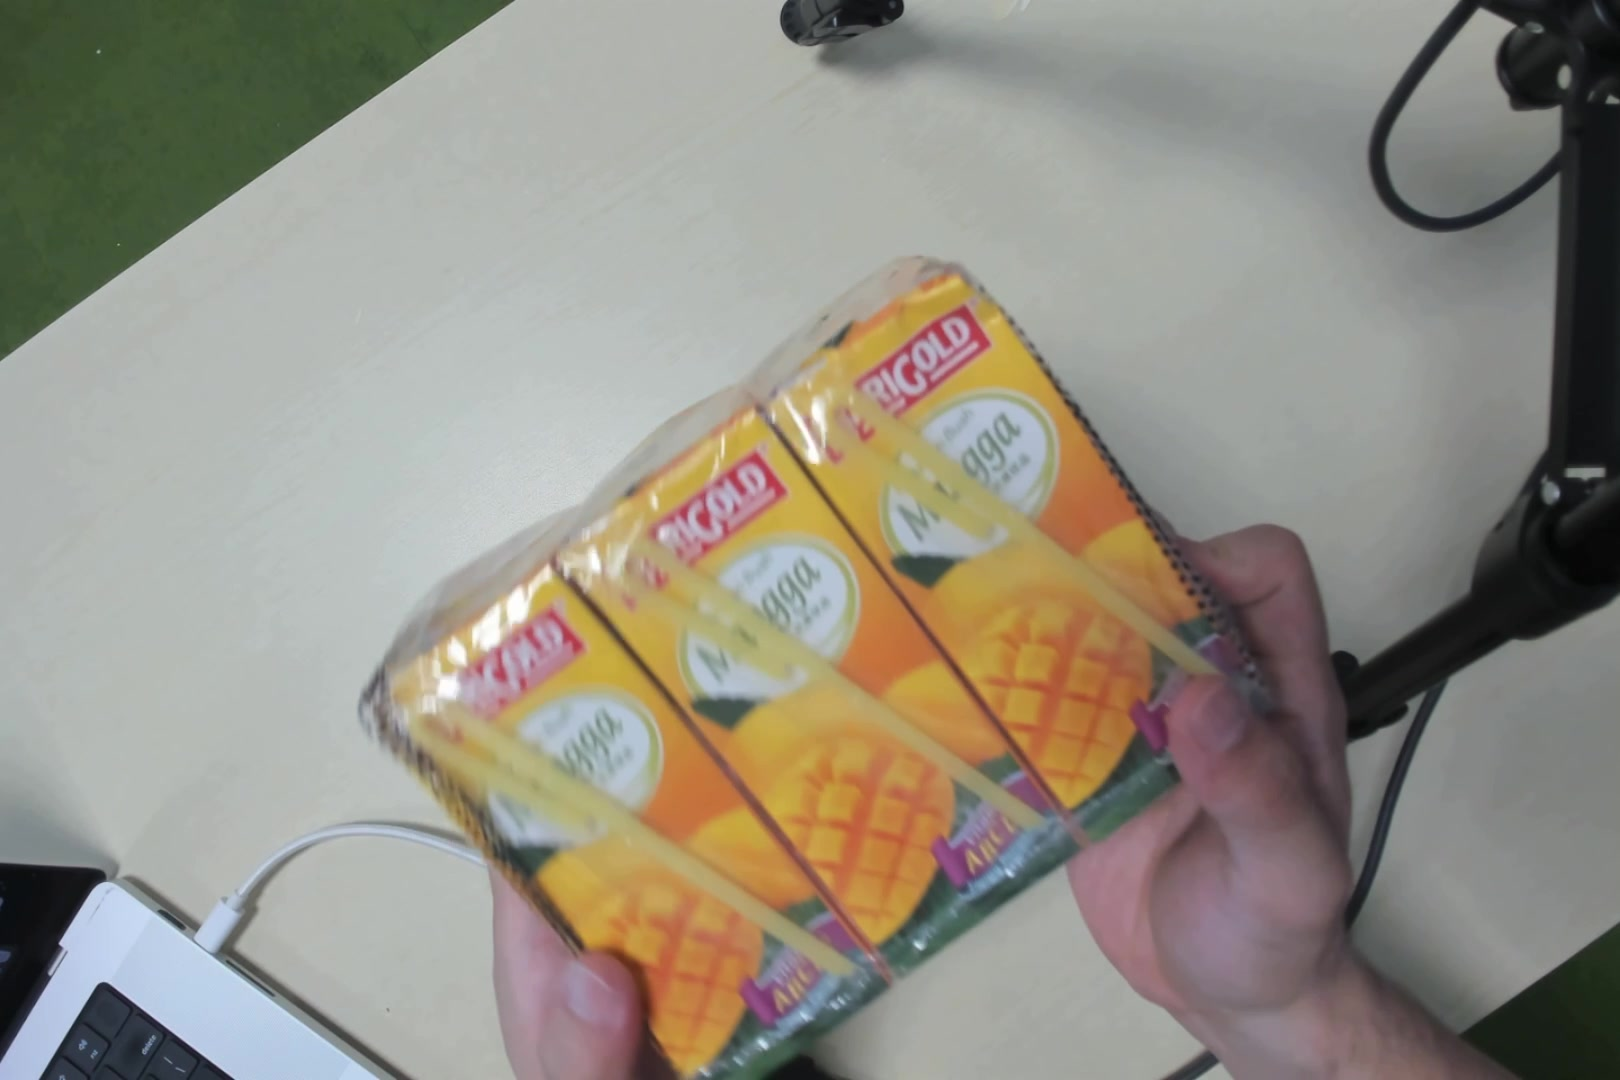FruitJuice_700-799g_Halal_NonHealthy: (407, 221, 1179, 992)
